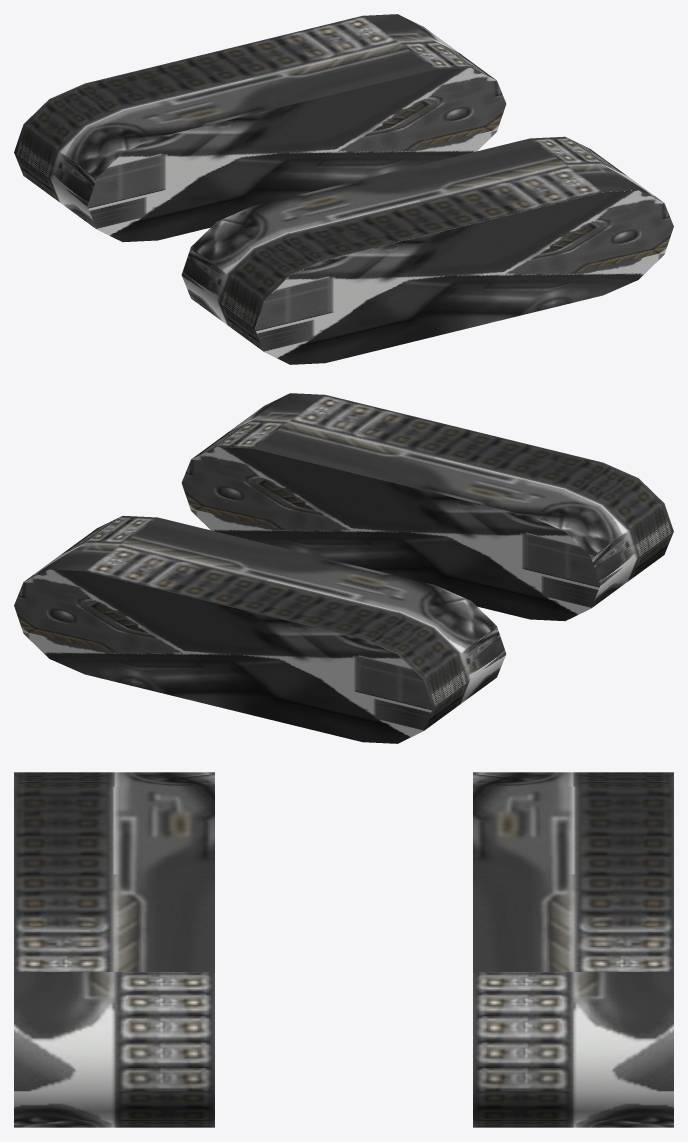
Rendered from tank_tracks.gltf.
3 renders of one model, top to bottom at view 1: azimuth 30°, elevation 25°; view 2: azimuth 150°, elevation 25°; view 3: azimuth 270°, elevation 25°, orthographic. The views are drawn at different scales.
Parts seen in each view (by area): view 1: Mesh_1, Mesh_0, Mesh_2; view 2: Mesh_1, Mesh_2, Mesh_0; view 3: Mesh_0, Mesh_2.
Part boxes in pixels (x1,y1,x2,y2): Mesh_1: (87,68,673,364); Mesh_0: (14,14,495,228); Mesh_2: (181,136,663,351); Mesh_1: (14,447,600,743); Mesh_2: (192,393,673,608); Mesh_0: (24,515,506,730); Mesh_0: (473,772,673,1127); Mesh_2: (14,772,214,1127).
Size of the model in its own units: 1.19 by 0.2809 by 1.19.
Materials: 2 (2 with a texture image).
